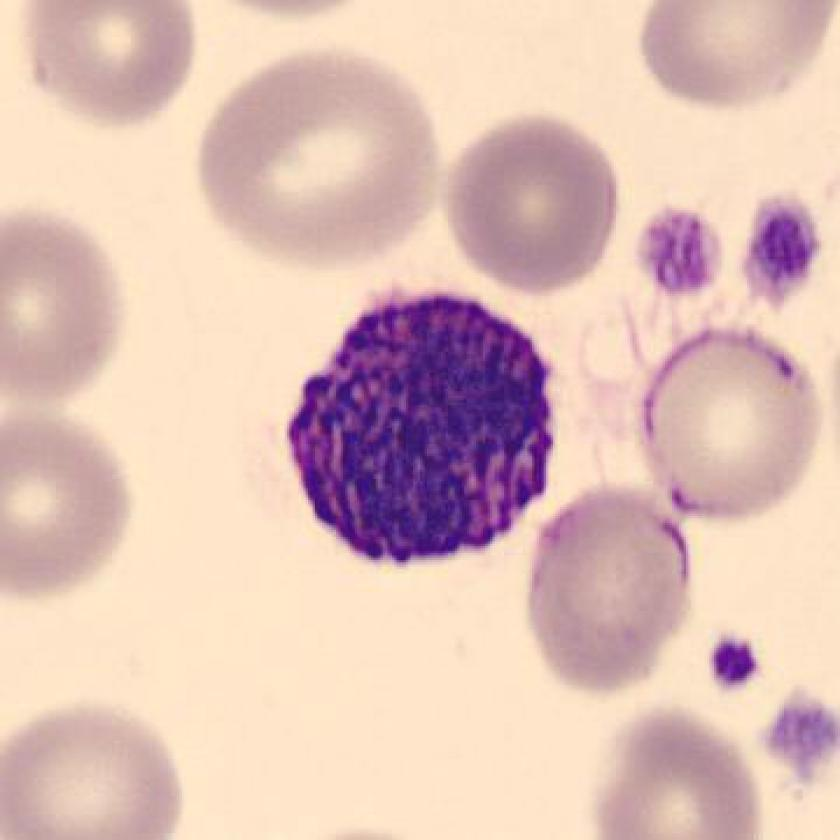basophil: (276, 276, 559, 575)
